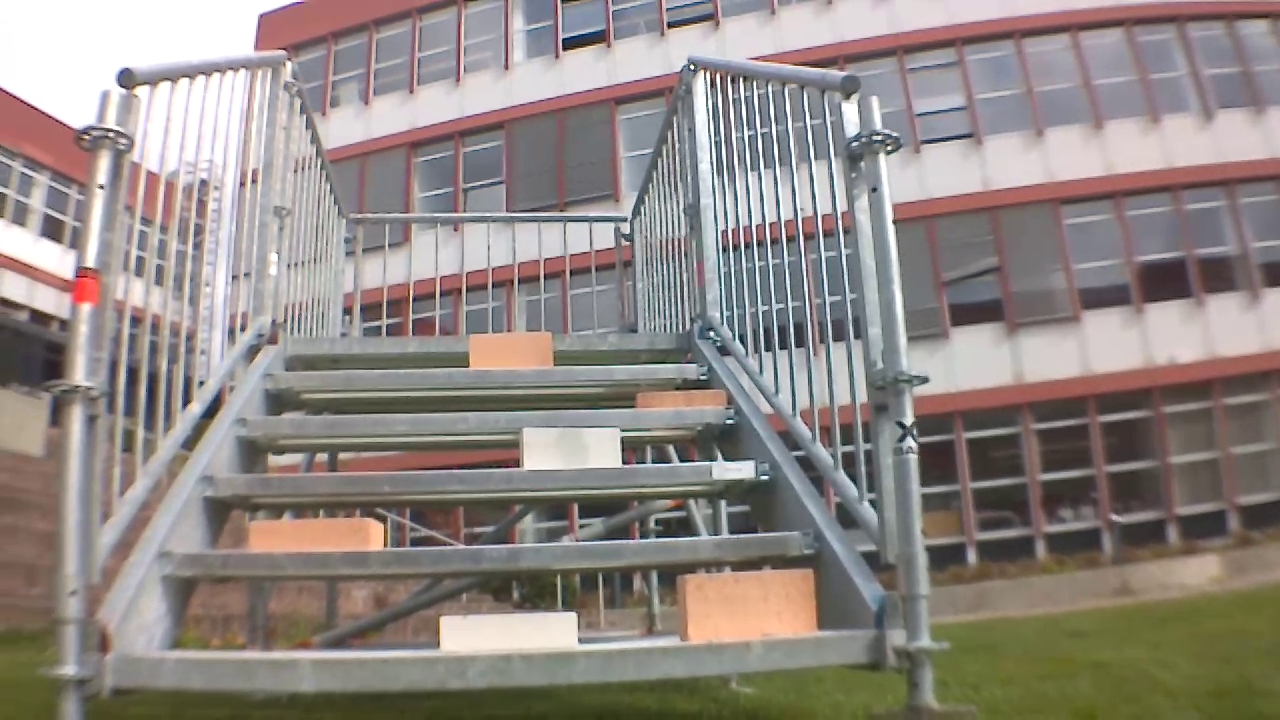brick: (677, 564, 819, 640), (429, 607, 589, 655), (241, 513, 383, 548), (522, 422, 623, 466), (464, 330, 554, 366), (624, 384, 728, 412)
edge: (111, 627, 884, 691), (160, 529, 819, 573), (201, 457, 779, 492), (239, 408, 743, 436), (283, 334, 685, 353), (266, 367, 715, 382)
stairs: (70, 54, 918, 714)
steps: (89, 333, 886, 693)
